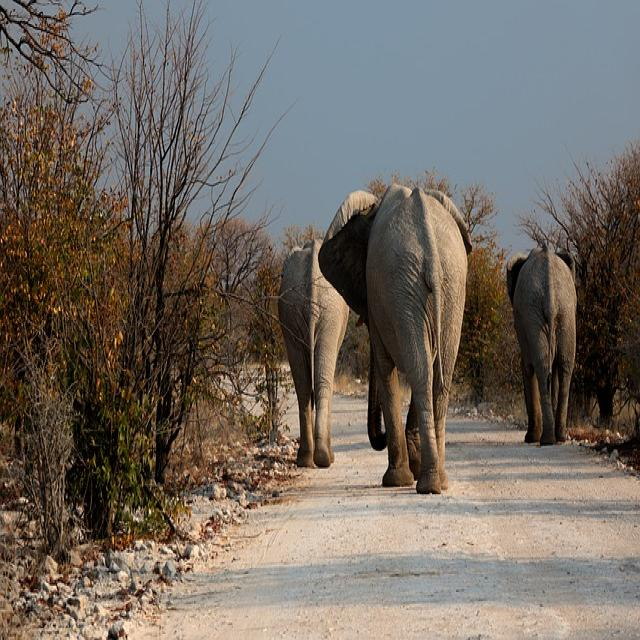elephant: (319, 184, 471, 494), (279, 240, 349, 467), (506, 246, 576, 444)
